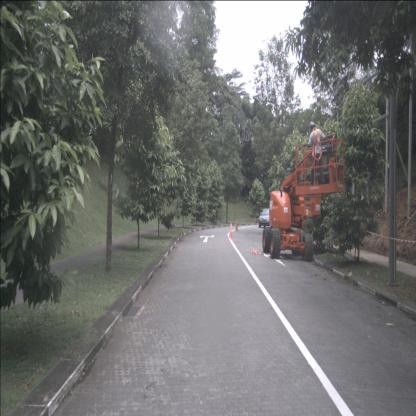movable_object-trafficcone: (228, 220, 234, 238), (234, 218, 239, 232)
vehicle-car: (258, 208, 276, 228)
